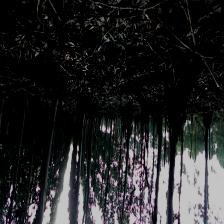trunk: (36, 98, 58, 212), (166, 106, 184, 220), (76, 106, 86, 200), (154, 113, 163, 211), (87, 112, 95, 187), (204, 122, 210, 212)
